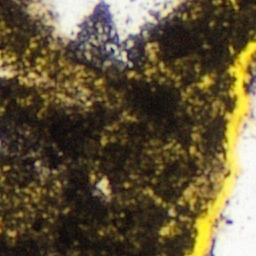cement_matrix: (0, 0, 255, 255), (248, 55, 255, 87), (24, 73, 43, 82), (98, 180, 108, 193), (186, 189, 194, 199), (202, 78, 209, 85), (165, 227, 170, 231)
cracks: (186, 39, 255, 255)
gravel_crushed_stones: (28, 0, 183, 60), (212, 91, 255, 255), (0, 55, 14, 77), (25, 74, 42, 81), (99, 181, 107, 192), (187, 190, 193, 198), (203, 79, 208, 84), (166, 228, 169, 230)
